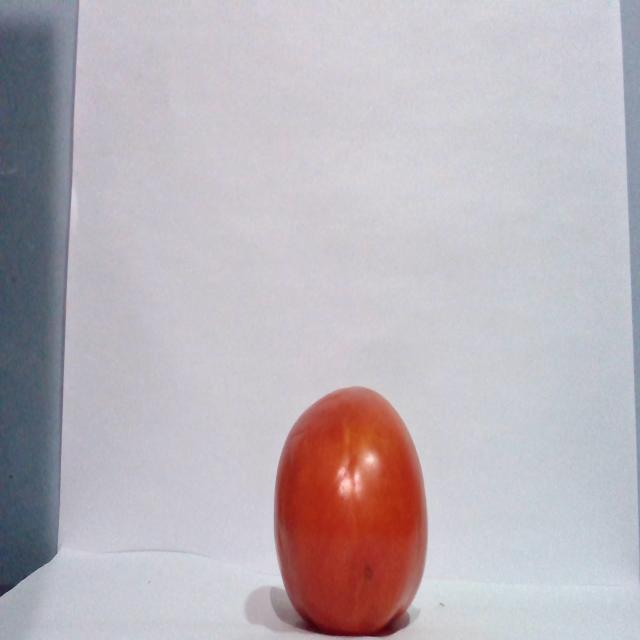Red: (272, 384, 429, 635)
